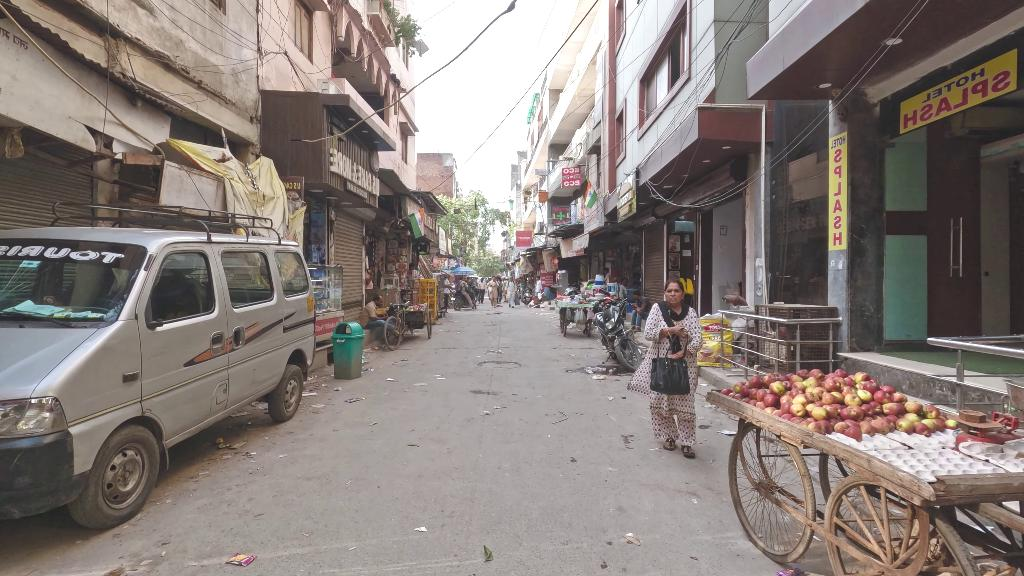dustbin: (325, 319, 368, 386)
garbage: (226, 547, 263, 576)
